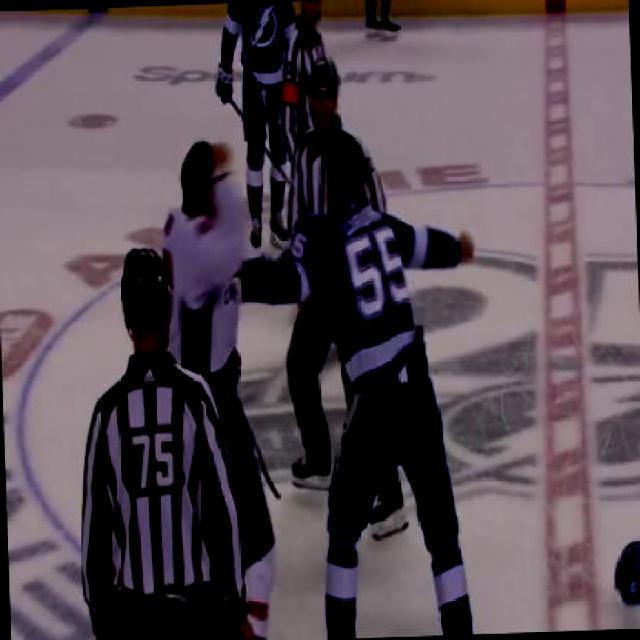fight: (156, 127, 490, 638)
